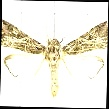Spodoptera litura: (1, 17, 108, 100)
